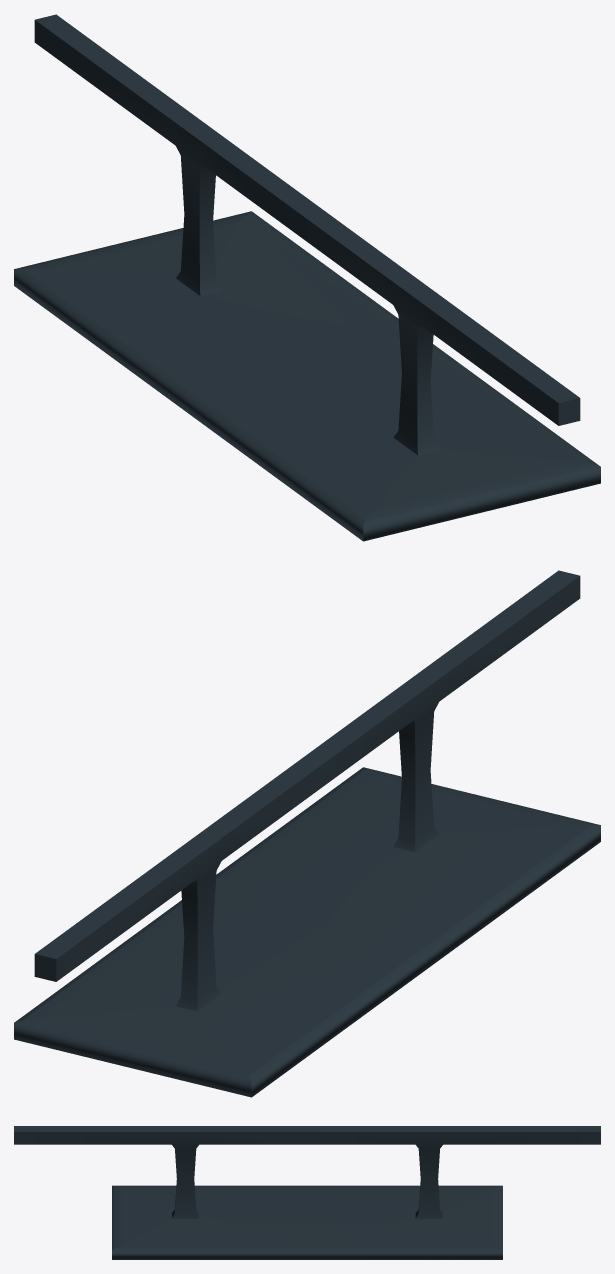
The model's file is Lightfixture.fbx.
3 renders of one model, top to bottom at view 1: azimuth 30°, elevation 25°; view 2: azimuth 150°, elevation 25°; view 3: azimuth 270°, elevation 25°, orthographic. The views are drawn at different scales.
Visible parts, largest first — view 1: Cube.001; view 2: Cube.001; view 3: Cube.001.
Part boxes in pixels (x1,y1,x2,y2): Cube.001: (14,14,600,541); Cube.001: (14,570,600,1097); Cube.001: (14,1126,600,1259).
Bounding box in the file's own units: 78.59 × 56.61 × 300.
